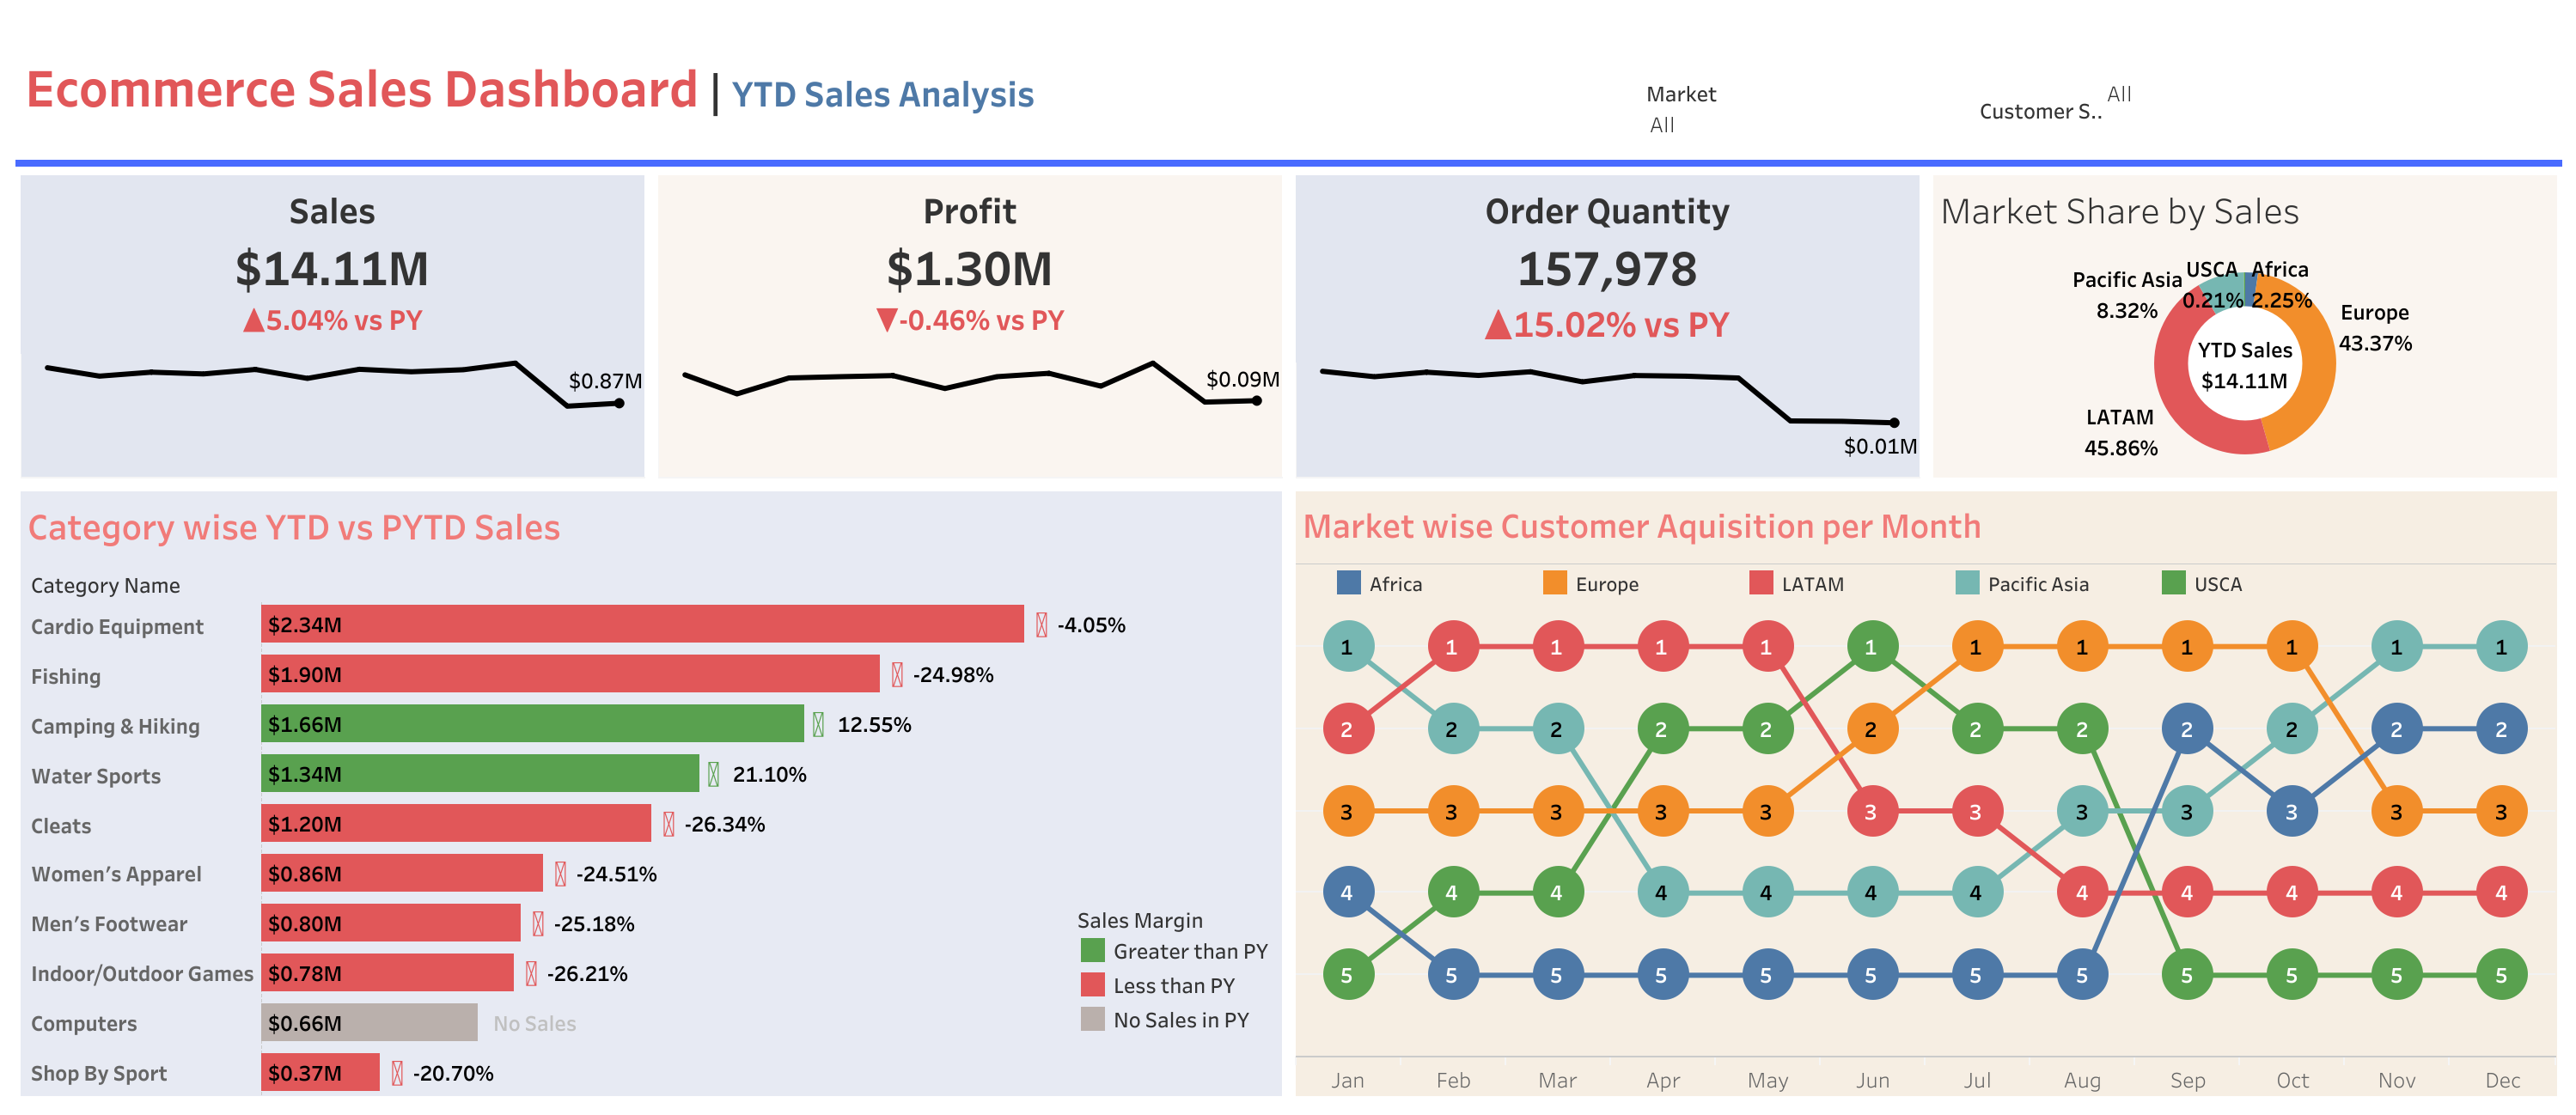

This screenshot's page, from the dashboard's own definition file:
{"tool":"tableau","page":{"name":"Ecommerce Sales Dashboard","canvas":[1500,650],"ordinal":0},"visuals":[{"type":"title","box":[8,8,1484,84]},{"type":"filter","title":"Sales KPI","param":"[federated.1ad2zua1al6glh1cgbhwe1vfffhx].[none:Market:nk]","box":[958,44,172,42]},{"type":"filter","title":"Sales KPI","param":"[federated.1ad2zua1al6glh1cgbhwe1vfffhx].[none:Customer Segment:nk]","box":[1152,45,160,38]},{"type":"blank","box":[8,92,1484,6]},{"type":"worksheet","title":"Sales KPI","mark":"Automatic","rows":["Sales"],"cols":["Order Date"],"box":[8,98,371,184]},{"type":"worksheet","title":"Profit KPI","mark":"Automatic","rows":["Profit Per Order"],"cols":["Order Date"],"box":[379,98,371,184]},{"type":"worksheet","title":"Order Quantity KPI","mark":"Automatic","rows":["Order Quantity"],"cols":["Order Date"],"box":[750,98,371,184]},{"type":"worksheet","title":"Market Share by Sales","mark":"Pie","cols":["Calculation_6106057622355983","Calculation_6106057622425617"],"box":[1121,98,371,184]},{"type":"worksheet","title":"Category wise YTD vs PYTD Sales","mark":"Bar","rows":["Category Name"],"cols":["Calculation_6106057623068690","Calculation_6106057623068690"],"box":[8,282,742,360]},{"type":"worksheet","title":"Market wise Customer Aquisition per Month","mark":"Automatic","cols":["Order Date"],"box":[750,282,742,360]},{"type":"legend","title":"Market wise Customer Aquisition per Month","param":"[federated.1ad2zua1al6glh1cgbhwe1vfffhx].[none:Market:nk]","box":[775,329,628,22]},{"type":"legend","title":"Category wise YTD vs PYTD Sales","param":"[federated.1ad2zua1al6glh1cgbhwe1vfffhx].[usr:Calculation_6106057688895509:nk]","box":[626,524,115,100]}]}

Visuals, with their boxes in screenshot pixels (x1, y1, x2, y2), scaled from the page's 1500x650 canvas onto the 2576x1115 screenshot:
title: detection(14, 14, 2562, 158)
"Sales KPI" filter: detection(1645, 76, 1940, 148)
"Sales KPI" filter: detection(1978, 77, 2253, 143)
blank: detection(14, 158, 2562, 168)
"Sales KPI" worksheet: detection(14, 168, 650, 484)
"Profit KPI" worksheet: detection(650, 168, 1288, 484)
"Order Quantity KPI" worksheet: detection(1288, 168, 1926, 484)
"Market Share by Sales" worksheet (Pie marks): detection(1926, 168, 2562, 484)
"Category wise YTD vs PYTD Sales" worksheet (Bar marks): detection(14, 484, 1288, 1101)
"Market wise Customer Aquisition per Month" worksheet: detection(1288, 484, 2562, 1101)
"Market wise Customer Aquisition per Month" legend: detection(1331, 564, 2409, 602)
"Category wise YTD vs PYTD Sales" legend: detection(1075, 899, 1273, 1070)
